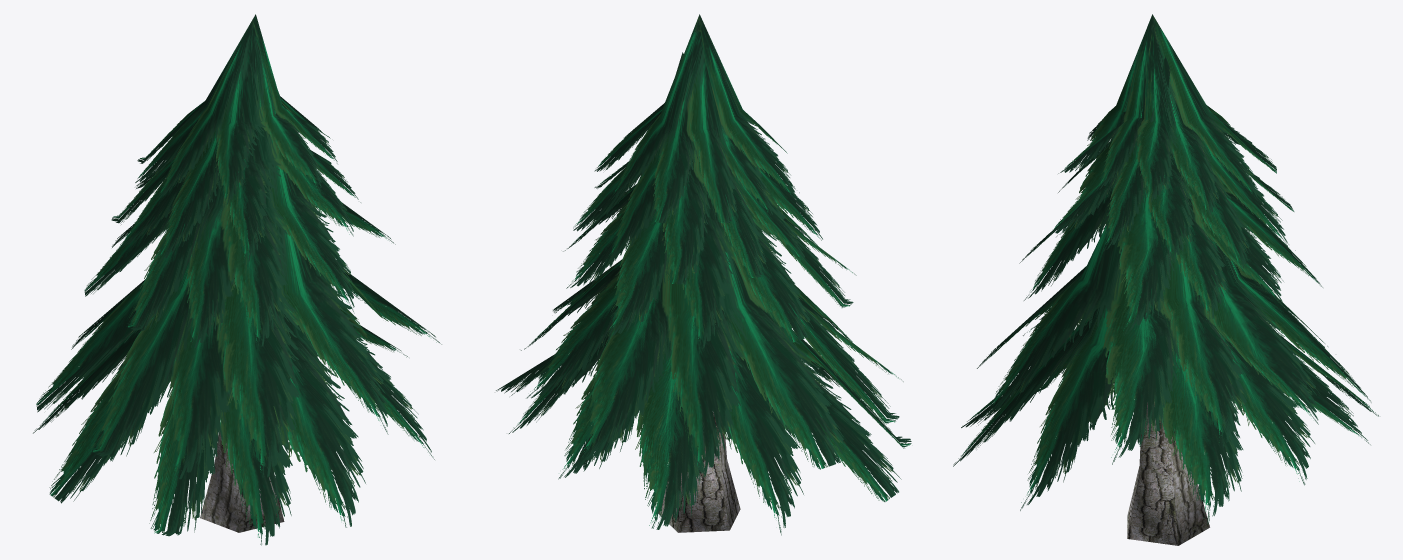
Rendered from PineTree.fbx.
The picture shows the model from 3 angles, left to right: view 1: azimuth 30°, elevation 25°; view 2: azimuth 150°, elevation 25°; view 3: azimuth 270°, elevation 25°; orthographic projection. The views are drawn at different scales.
Parts seen in each view (by area): view 1: PineLeaves, PineTreeBark; view 2: PineLeaves, PineTreeBark; view 3: PineLeaves, PineTreeBark.
Part boxes in pixels (x1,y1,x2,y2): PineLeaves: (33, 14, 441, 545); PineTreeBark: (200, 431, 284, 532); PineLeaves: (496, 14, 911, 535); PineTreeBark: (658, 411, 740, 532); PineLeaves: (953, 14, 1378, 524); PineTreeBark: (1127, 402, 1209, 545).
Size of the model in its own units: 152 by 190 by 147.
